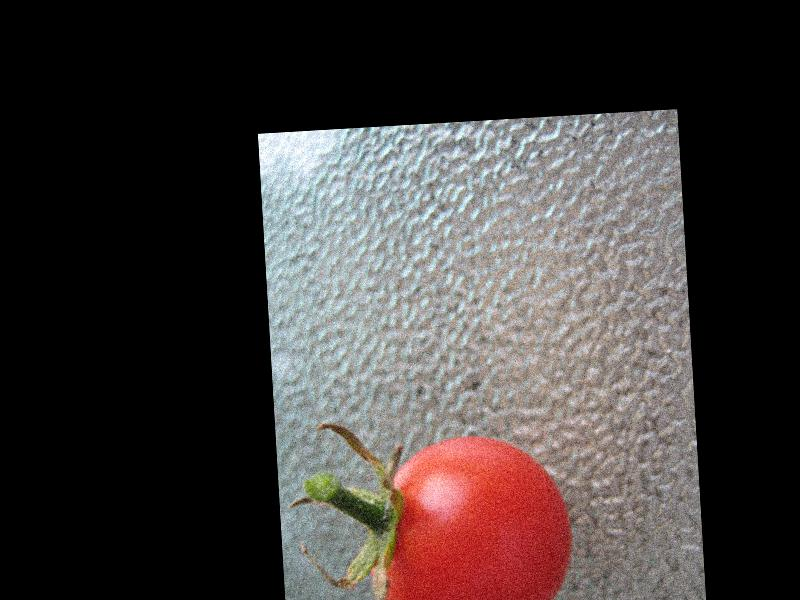Tomato: (373, 428, 578, 600)
